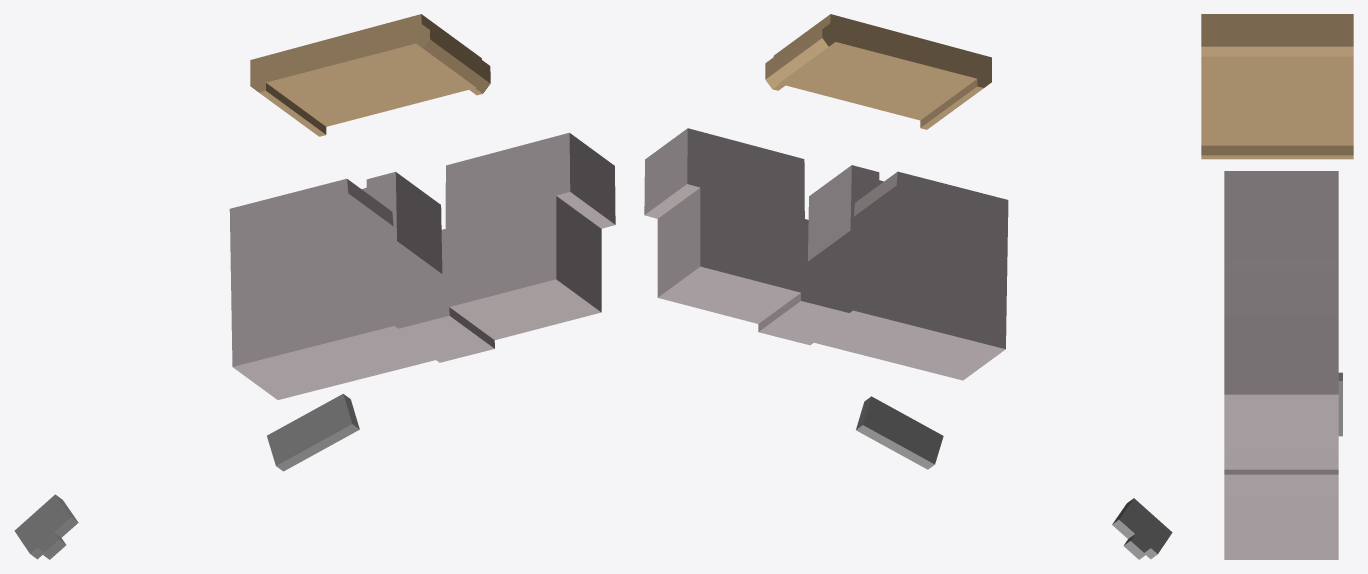
3 views of the same model, side by side, from view 1: azimuth 30°, elevation 25°; view 2: azimuth 150°, elevation 25°; view 3: azimuth 270°, elevation 25° (orthographic). The views are drawn at different scales.
Parts seen in each view (by area): view 1: 0_3_2_3_1_1_0; view 2: 0_3_2_3_1_1_0; view 3: 0_3_2_3_1_1_0.
Part boxes in pixels (box(x1,y1,x2,y2)): 0_3_2_3_1_1_0: box(14, 14, 615, 559); 0_3_2_3_1_1_0: box(644, 14, 1172, 559); 0_3_2_3_1_1_0: box(1201, 14, 1353, 559).
Size of the model in its own units: 127 by 97.2 by 24.
